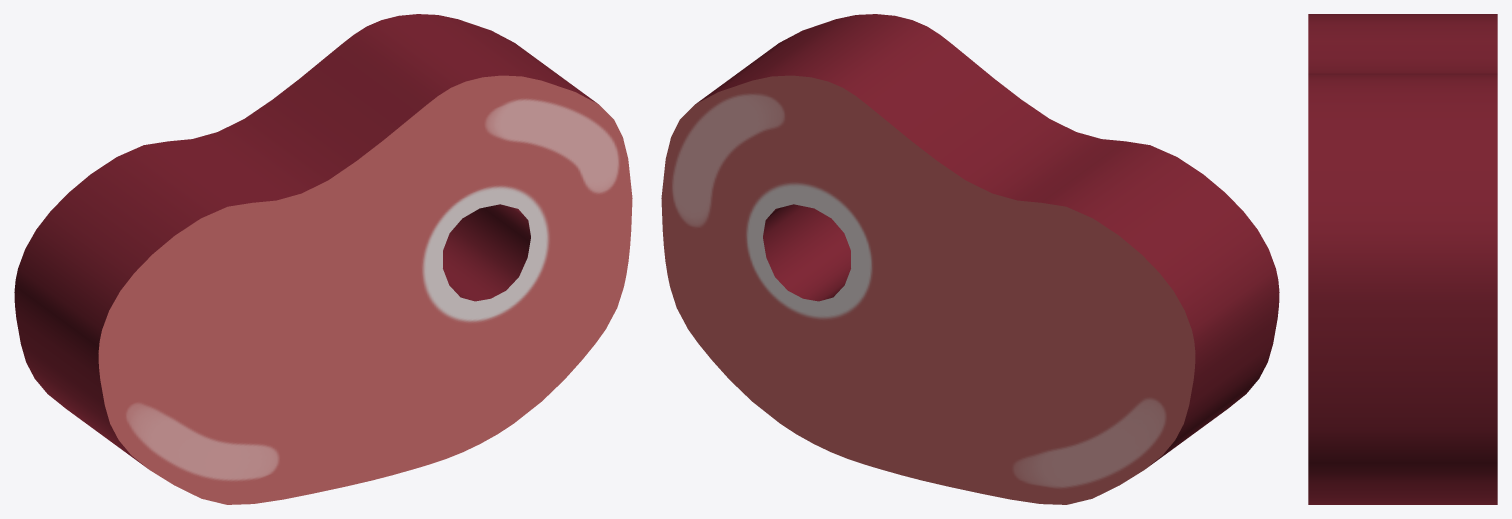
File: mesh_Beef_v1.0.fbx
3 renders of one model, left to right at view 1: azimuth 30°, elevation 25°; view 2: azimuth 150°, elevation 25°; view 3: azimuth 270°, elevation 25°, orthographic. The views are drawn at different scales.
Parts seen in each view (by area): view 1: pCube12; view 2: pCube12; view 3: pCube12.
Boxes of the visible parts, left/top/right/bottom form: pCube12: left=14, top=14, right=632, bottom=504; pCube12: left=661, top=14, right=1279, bottom=504; pCube12: left=1308, top=14, right=1497, bottom=504.
Bounding box in the file's own units: 107 × 71.84 × 29.08.
